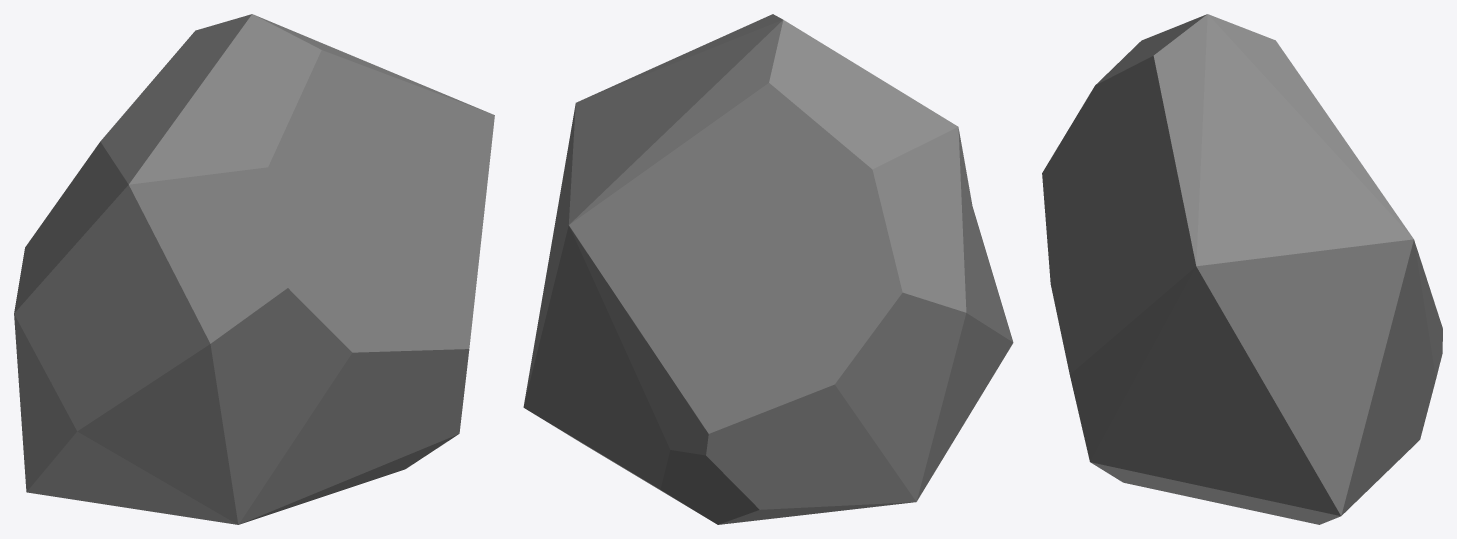
Rendered from Small rock 1.fbx.
The picture shows the model from 3 angles, left to right: view 1: azimuth 30°, elevation 25°; view 2: azimuth 150°, elevation 25°; view 3: azimuth 270°, elevation 25°; orthographic projection. The views are drawn at different scales.
Parts seen in each view (by area): view 1: Icosphere.001; view 2: Icosphere.001; view 3: Icosphere.001.
Boxes of the visible parts, x1,y1,x2,y2 form: Icosphere.001: [14, 14, 494, 524]; Icosphere.001: [523, 14, 1013, 524]; Icosphere.001: [1042, 14, 1442, 524].
Bounding box in the file's own units: 0.6703 × 0.6711 × 0.5443.
